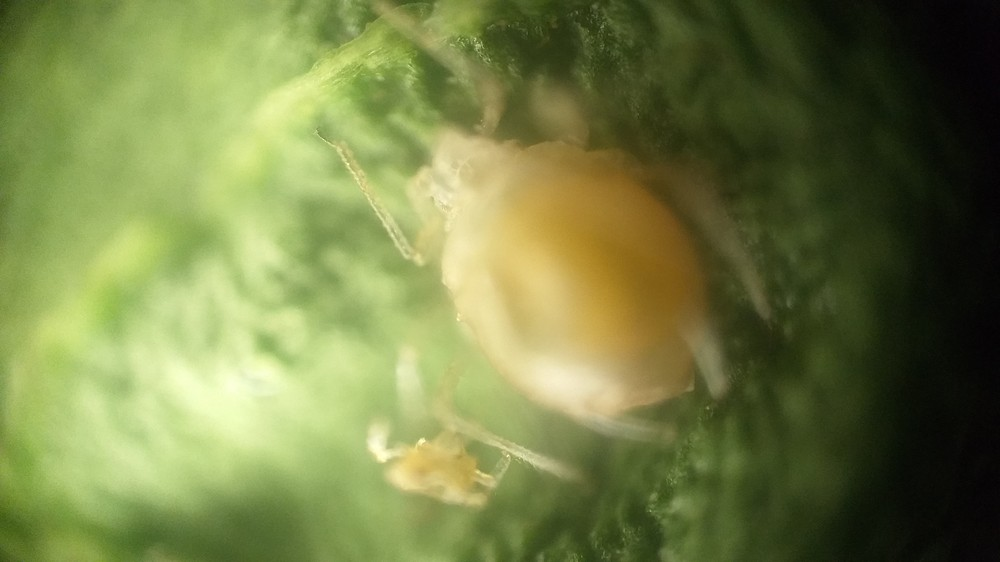Pulgon: (340, 43, 786, 457)
